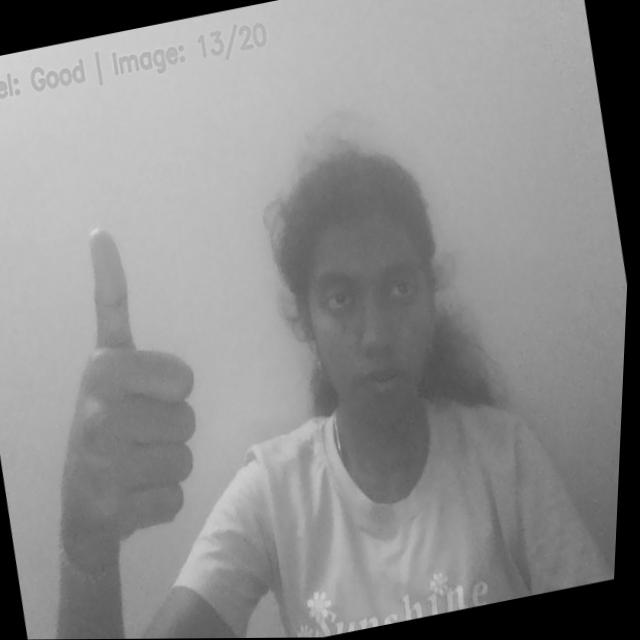Good: (0, 205, 242, 569)
